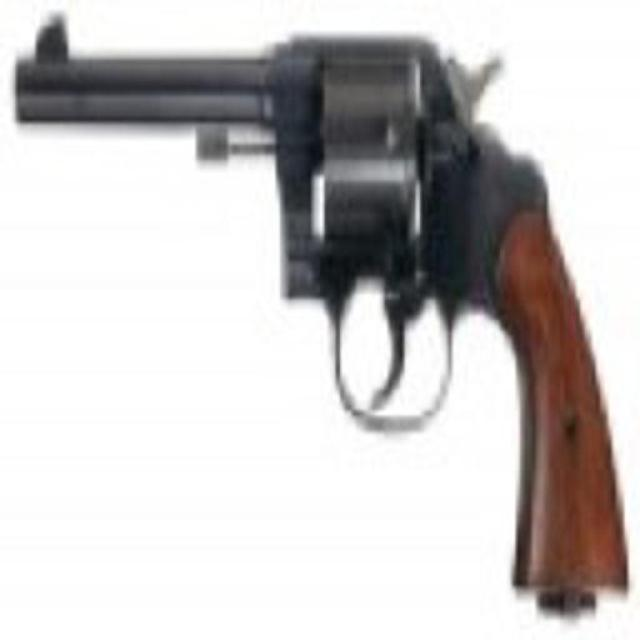pistol: (15, 10, 624, 602)
